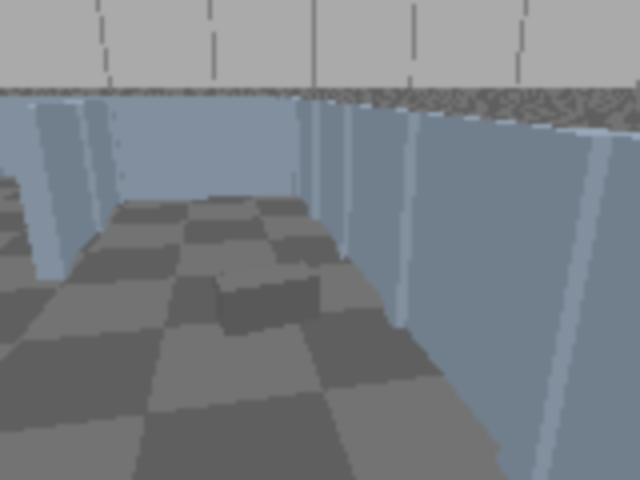obstacle: (213, 262, 319, 338)
